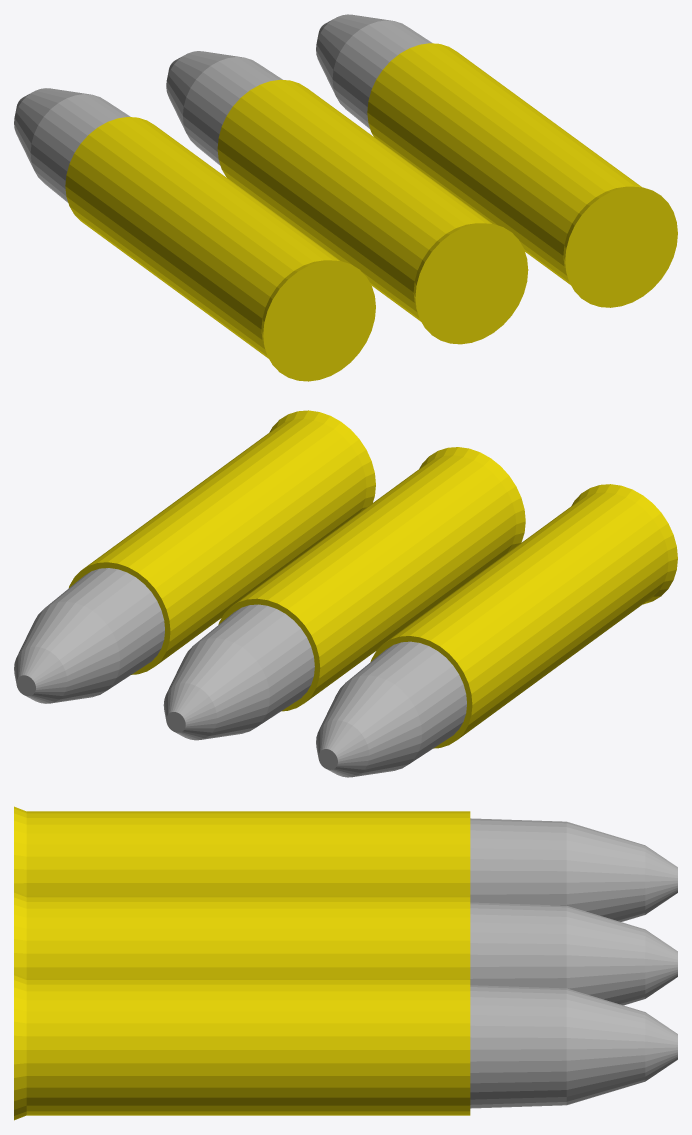
Rendered from BulletsIcon.fbx.
3 views of the same model, one above another, from view 1: azimuth 30°, elevation 25°; view 2: azimuth 150°, elevation 25°; view 3: azimuth 270°, elevation 25° (orthographic). The views are drawn at different scales.
Visible parts, largest first — view 1: Cylinder.007; view 2: Cylinder.007; view 3: Cylinder.007.
Part boxes in pixels (<box>): Cylinder.007: <box>14,14,677,381</box>; Cylinder.007: <box>14,410,677,777</box>; Cylinder.007: <box>14,806,677,1120</box>.
Size of the model in its own units: 136 by 36.99 by 167.
